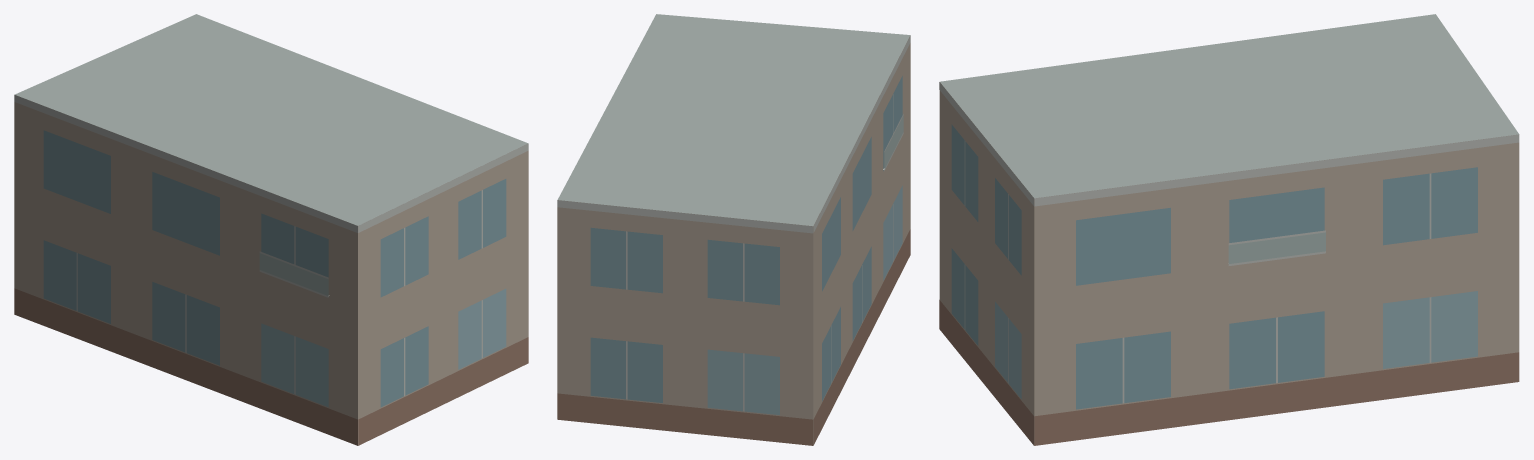
File: survey-upis-32878593.glb
3 views of the same model, side by side, from view 1: azimuth 30°, elevation 25°; view 2: azimuth 150°, elevation 25°; view 3: azimuth 270°, elevation 25° (orthographic). The views are drawn at different scales.
Visible parts, largest first — view 1: survey-upis-32878593.tmp; view 2: survey-upis-32878593.tmp; view 3: survey-upis-32878593.tmp.
Part boxes in pixels (x1,y1,x2,y2): survey-upis-32878593.tmp: (14,14,528,445); survey-upis-32878593.tmp: (557,14,910,445); survey-upis-32878593.tmp: (939,14,1519,445).
Size of the model in its own units: 11.83 by 7.4 by 15.72.
